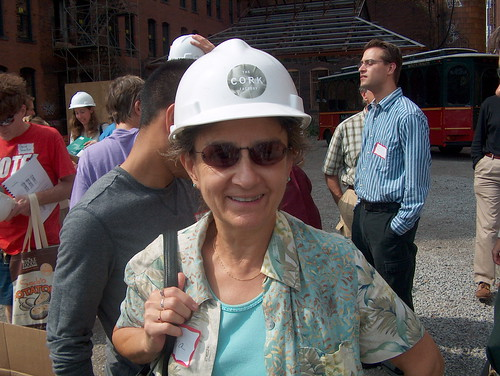person hardhat: (127, 39, 417, 376), (57, 85, 117, 159), (150, 27, 219, 69)
